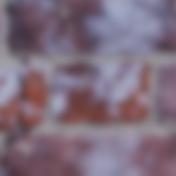brick: (10, 0, 175, 53), (8, 133, 175, 175), (52, 61, 149, 124), (158, 64, 175, 122), (0, 163, 2, 175)
broken_brick: (22, 64, 48, 126), (0, 69, 18, 132)
crack: (0, 0, 31, 175), (12, 152, 35, 175)
